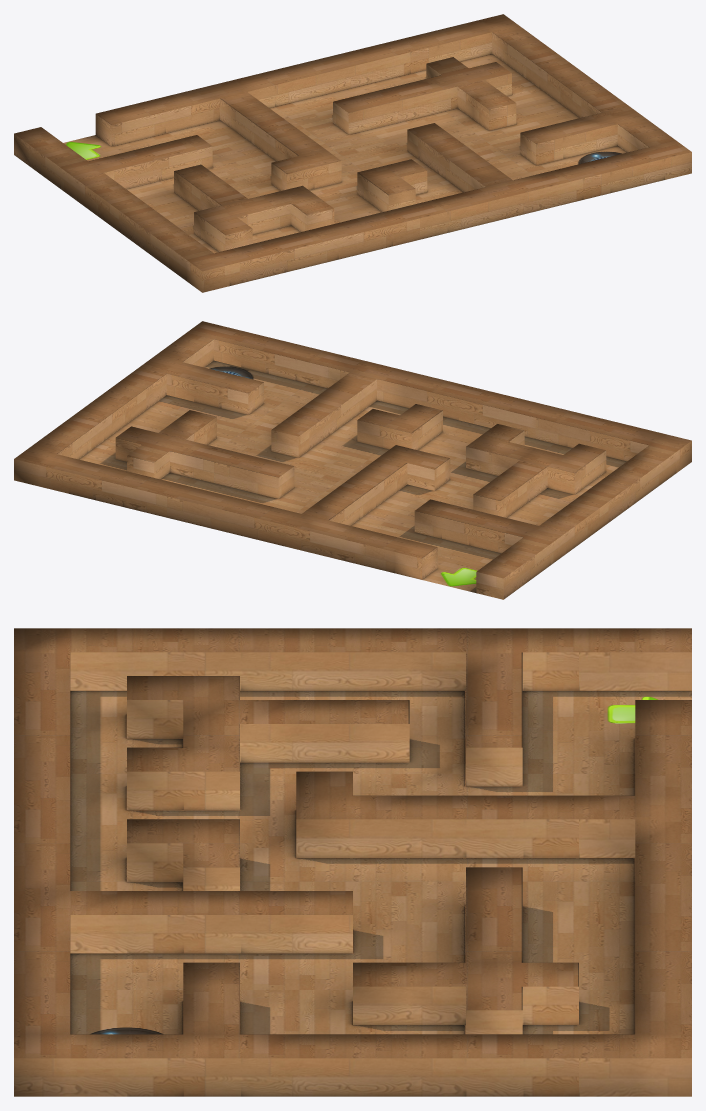
Rendered from labyrinth.fbx.
3 renders of one model, top to bottom at view 1: azimuth 30°, elevation 25°; view 2: azimuth 150°, elevation 25°; view 3: azimuth 270°, elevation 25°, orthographic. The views are drawn at different scales.
Visible parts, largest first — view 1: labyrinth; view 2: labyrinth; view 3: labyrinth.
Boxes of the visible parts, bbox=[...] form: labyrinth: bbox=[14, 14, 691, 292]; labyrinth: bbox=[14, 321, 691, 599]; labyrinth: bbox=[14, 628, 691, 1096].
Size of the model in its own units: 4800 by 200 by 3200.
1 material, 1 textured.
